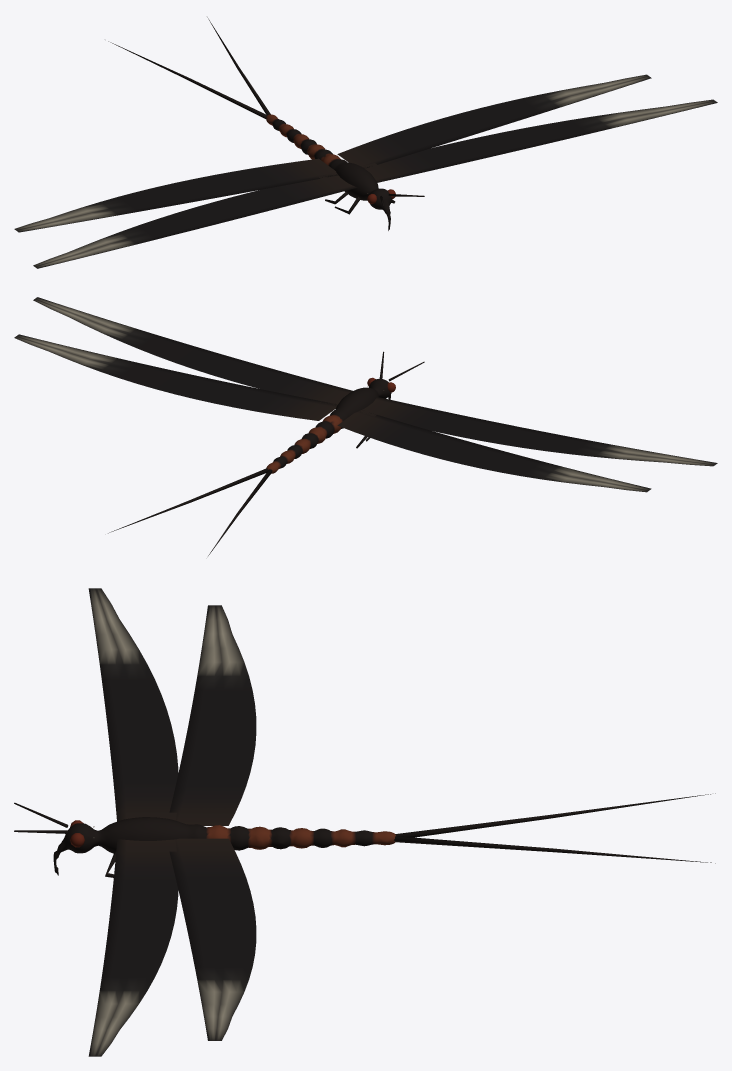
Rendered from Mischoptera.fbx.
The picture shows the model from 3 angles, top to bottom: view 1: azimuth 30°, elevation 25°; view 2: azimuth 150°, elevation 25°; view 3: azimuth 270°, elevation 25°; orthographic projection. The views are drawn at different scales.
Parts seen in each view (by area): view 1: Mischoptera; view 2: Mischoptera; view 3: Mischoptera.
Boxes of the visible parts, x1=… form: Mischoptera: x1=14, y1=17, x2=717, y2=268; Mischoptera: x1=14, y1=297, x2=717, y2=555; Mischoptera: x1=14, y1=588, x2=715, y2=1056.
Bounding box in the file's own units: 2 × 0.1178 × 1.27.
